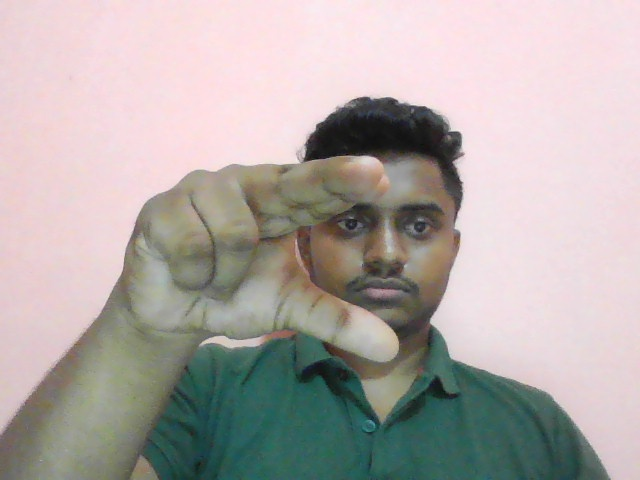No: (109, 146, 418, 369)
